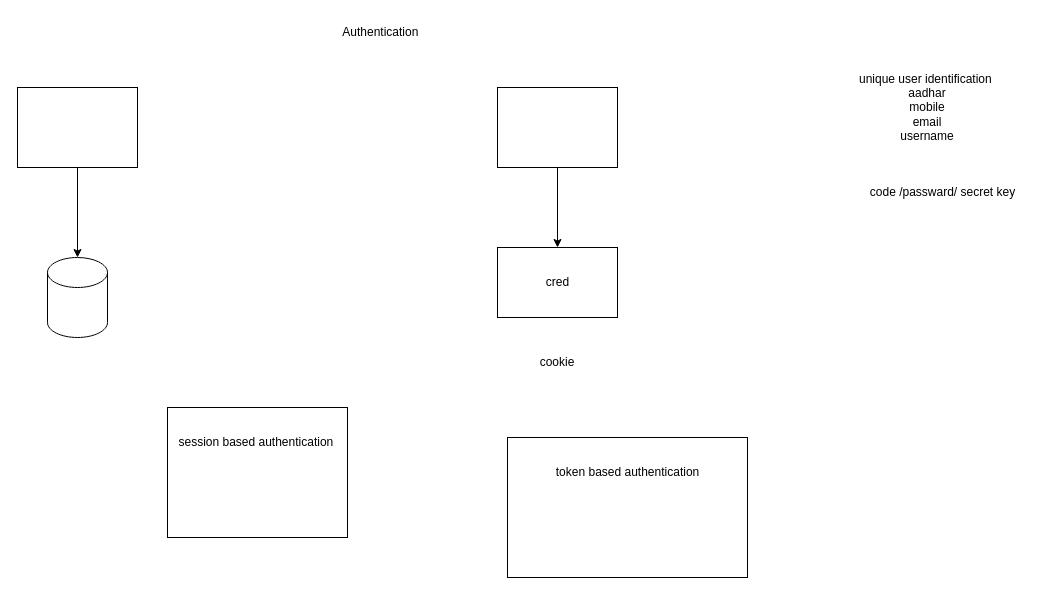
Some shapes in this 1045 by 595 pixel diagram are drawn without their labels. The shapes that lost their labels are listed below. From the top down, each one's box as (x1, y1, x2, y2) in pixels, then its label:
(16, 86, 138, 168): server
(496, 86, 618, 168): client
